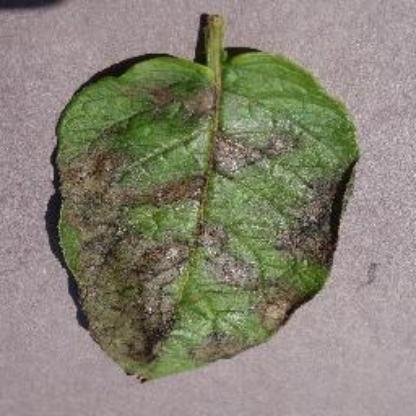Late-Blight: (41, 11, 377, 392)
